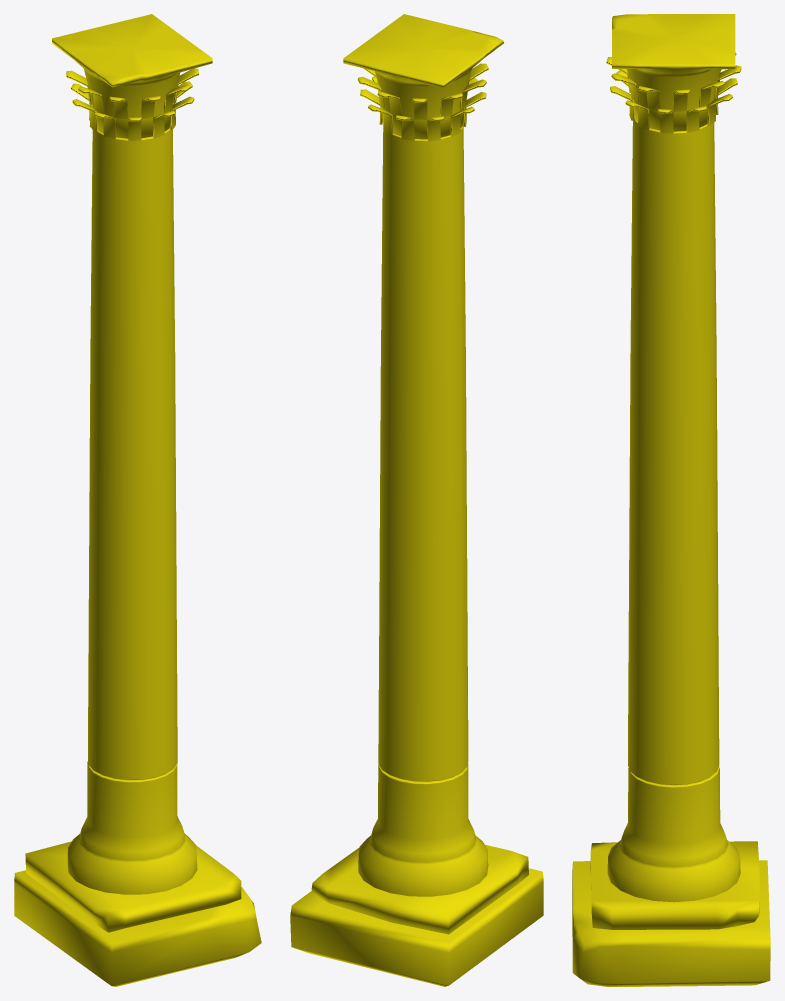
File: Pillar_02_Lod0.fbx
3 renders of one model, left to right at view 1: azimuth 30°, elevation 25°; view 2: azimuth 150°, elevation 25°; view 3: azimuth 270°, elevation 25°, orthographic.
Visible parts, largest first — view 1: Pillar_02_Lod0; view 2: Pillar_02_Lod0; view 3: Pillar_02_Lod0.
Boxes of the visible parts, x1,y1,x2,y2 form: Pillar_02_Lod0: [14, 14, 261, 986]; Pillar_02_Lod0: [290, 14, 543, 986]; Pillar_02_Lod0: [572, 14, 770, 986].
Size of the model in its own units: 563 by 3011 by 594.
